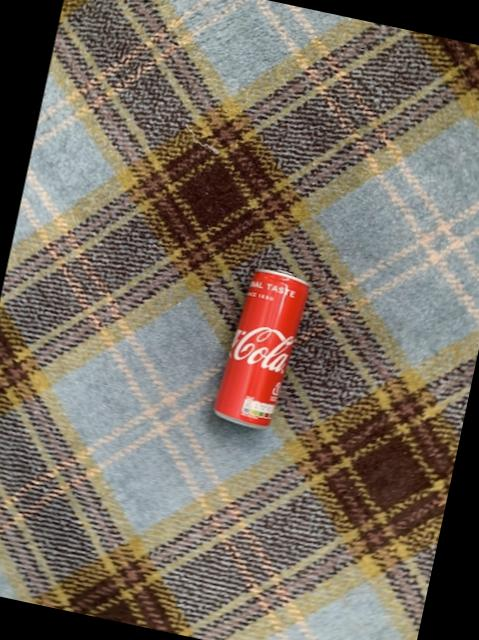metal: (214, 270, 308, 428)
